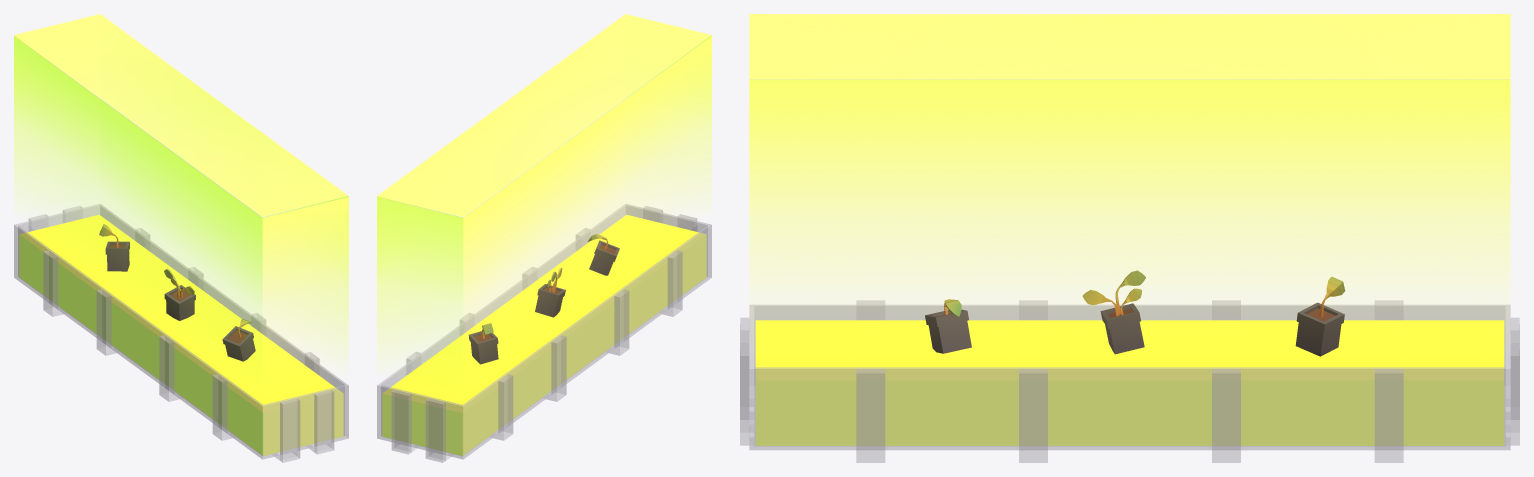
The model's file is Toxic_Petalbed.glb.
3 renders of one model, left to right at view 1: azimuth 30°, elevation 25°; view 2: azimuth 150°, elevation 25°; view 3: azimuth 270°, elevation 25°, orthographic. The views are drawn at different scales.
Parts seen in each view (by area): view 1: plants_box23, plants_box55, plants_box19, plant_1, plant3, plant2; view 2: plants_box23, plants_box55, plants_box19, plant2, plant_1, plant3; view 3: plants_box23, plants_box55, plants_box19, plant_1, plant2, plant3.
Boxes of the visible parts, x1,y1,x2,y2 form: plants_box23: [14, 14, 348, 459]; plants_box55: [19, 214, 343, 455]; plants_box19: [15, 206, 347, 462]; plant_1: [164, 268, 195, 320]; plant3: [222, 319, 255, 361]; plant2: [99, 224, 129, 271]; plants_box23: [377, 14, 711, 459]; plants_box55: [382, 214, 706, 455]; plants_box19: [378, 206, 710, 462]; plant2: [468, 323, 498, 364]; plant_1: [535, 268, 565, 317]; plant3: [587, 234, 619, 275]; plants_box23: [749, 14, 1510, 450]; plants_box55: [755, 320, 1504, 445]; plants_box19: [740, 300, 1519, 462]; plant_1: [1082, 270, 1145, 354]; plant2: [1295, 276, 1345, 356]; plant3: [925, 299, 971, 353].
Size of what is drawn, in the model's own units: 1.92 by 4.67 by 8.68.
5 materials, 4 textured.
